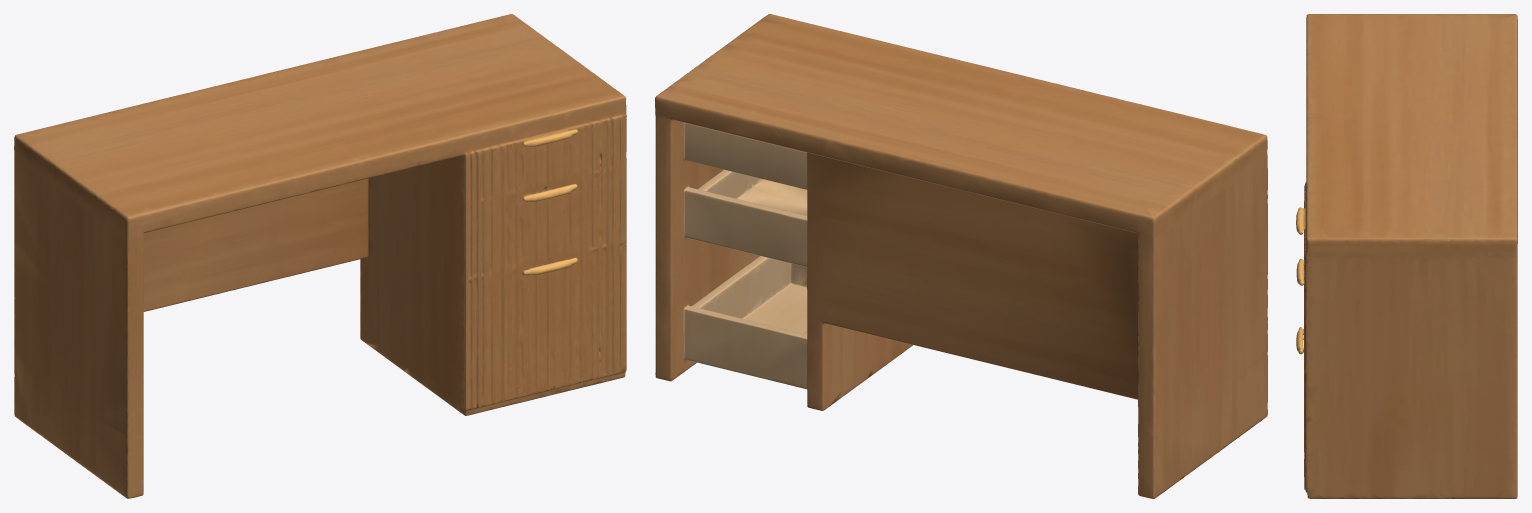
Rendered from Modern Light Wood Desk with Fluted Drawer Unit [ZLEFsB].glb.
3 views of the same model, side by side, from view 1: azimuth 30°, elevation 25°; view 2: azimuth 150°, elevation 25°; view 3: azimuth 270°, elevation 25° (orthographic). The views are drawn at different scales.
Visible parts, largest first — view 1: geometry_0; view 2: geometry_0; view 3: geometry_0.
Part boxes in pixels (x1,y1,x2,y2): geometry_0: (14, 14, 626, 498); geometry_0: (655, 14, 1267, 498); geometry_0: (1296, 14, 1517, 498).
Size of the model in its own units: 1 by 0.5414 by 0.4169.
Materials: 1 (1 with a texture image).
